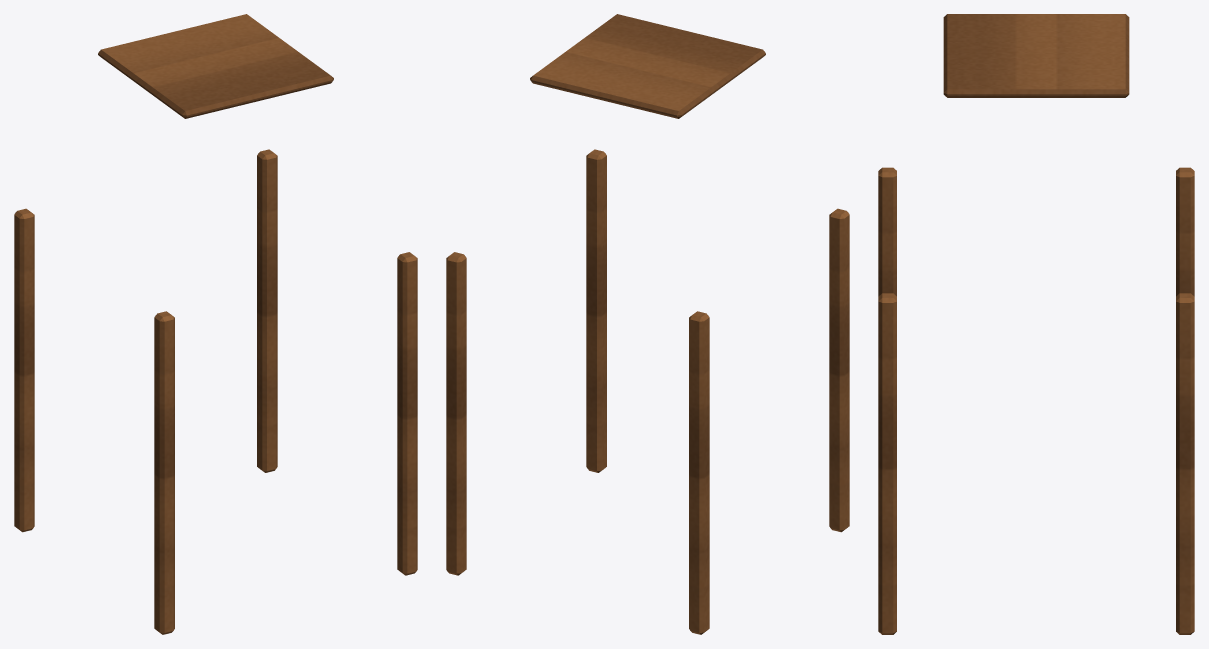
The model's file is Table.glb.
3 views of the same model, side by side, from view 1: azimuth 30°, elevation 25°; view 2: azimuth 150°, elevation 25°; view 3: azimuth 270°, elevation 25° (orthographic). The views are drawn at different scales.
Visible parts, largest first — view 1: Table; view 2: Table; view 3: Table.
Part boxes in pixels (left/top/right/bottom): Table: left=14, top=14, right=417, bottom=634; Table: left=446, top=14, right=849, bottom=634; Table: left=878, top=14, right=1194, bottom=634.
Size of the model in its own units: 2.55 by 4.61 by 2.55.
1 material, 1 textured.
